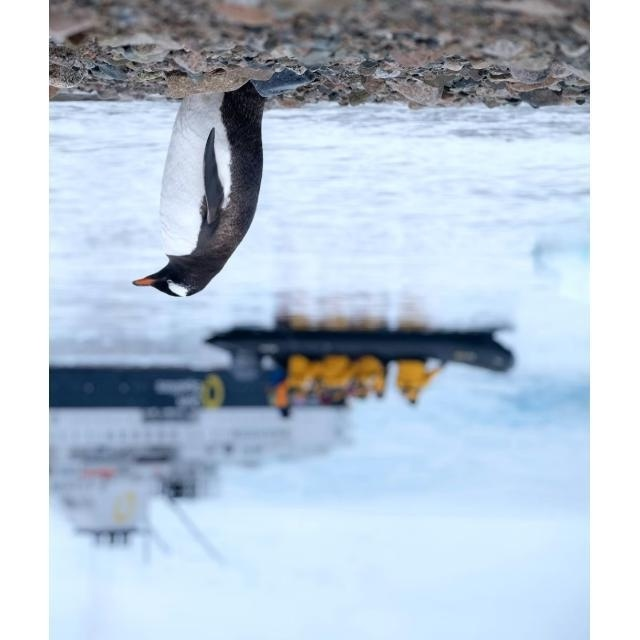penguin: (132, 80, 263, 296)
